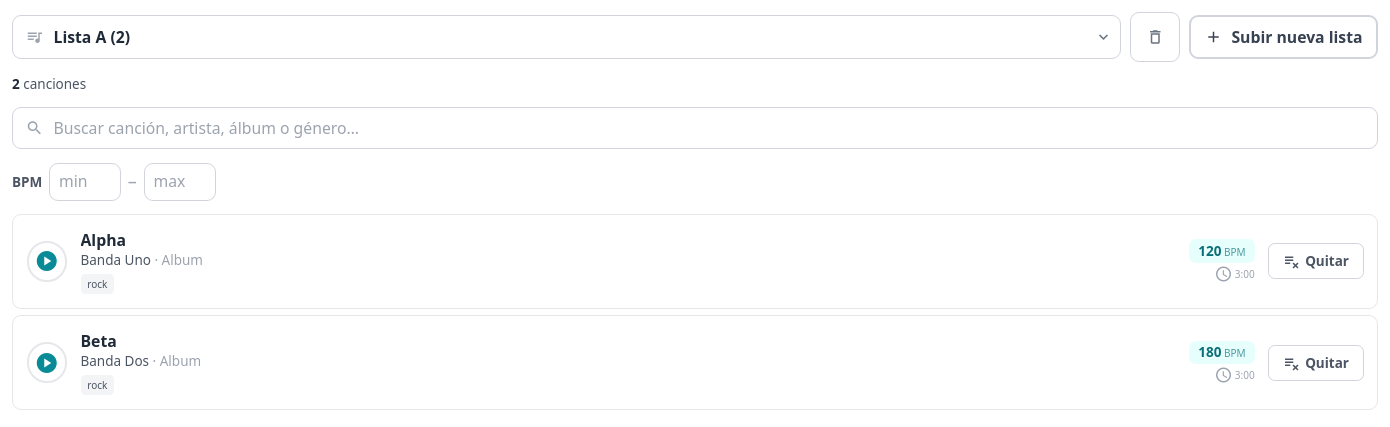
Test: MyListsTab (editor con selector) › el buscador filtra por nombre
In the search field with placeholder "Buscar canción, artista, álbum o género…": coordinates (695, 128) [12, 106, 1378, 149], type "alpha"
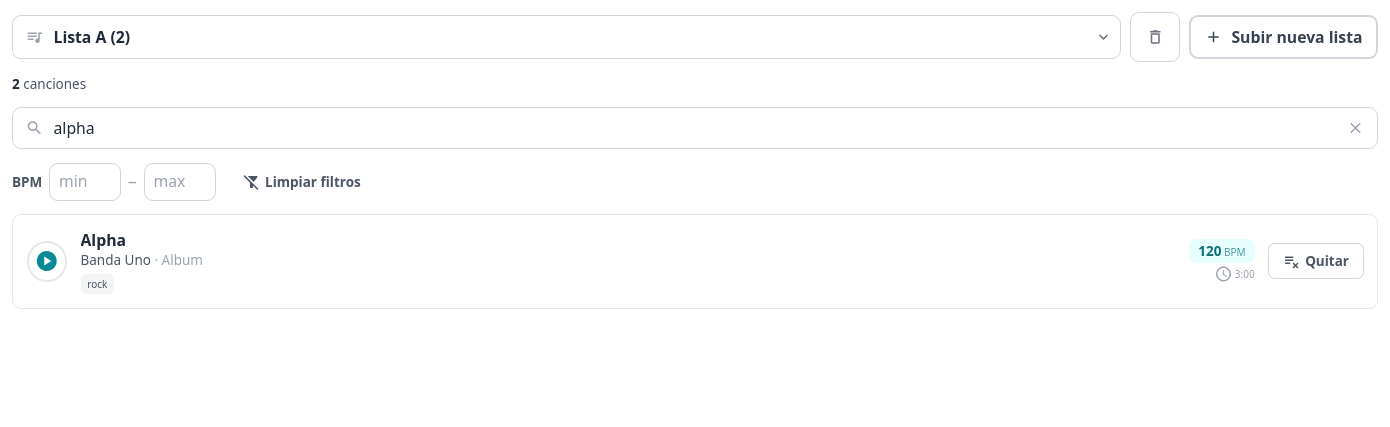
Expected: the text "Alpha" is shown, [80, 228, 126, 250]
Expected: the text "Beta" is gone
